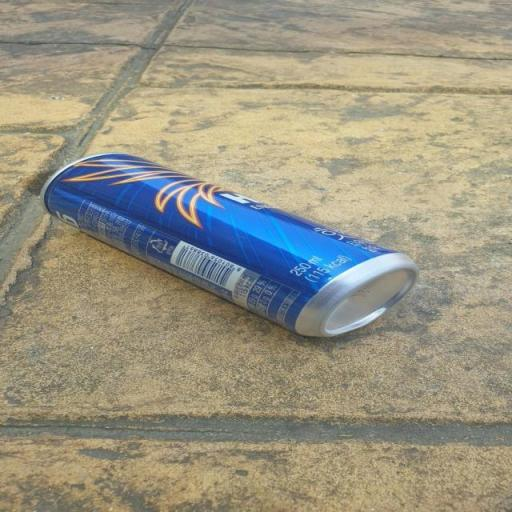metal: (20, 134, 436, 350)
